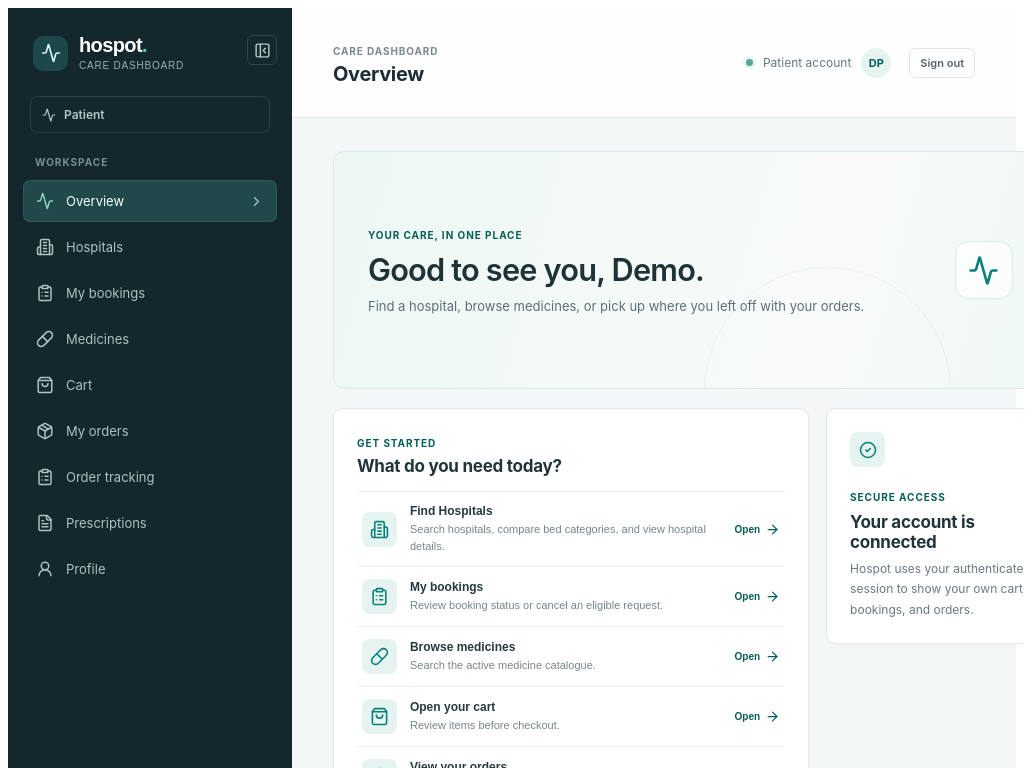
it: dashboard layout rendering › renders the patient workspace and navigates between its sections
Later steps or results of the test are not shown.
Expected: the element with class "dashboard-role-label" reads "Patient", 64,107 -> 105,122
Step 1. Click the button with class "dashboard-nav-item" showing "Hospitals" → (150,247), box 23,226 -> 277,268
Step 2. Click the button with class "dashboard-quick-link" that starts with "Find Hospitals" → (571,528), box 357,491 -> 785,566
Step 3. Click the 2nd button with class "dashboard-quick-link" → (571,596), box 357,566 -> 785,626
Step 4. Click the button with class "dashboard-quick-link" that starts with "Browse medicines" → (571,656), box 357,626 -> 785,686
Step 5. Click the button with class "dashboard-quick-link" that starts with "Open your cart" → (379,716), box 357,686 -> 785,746
(page scrolled)
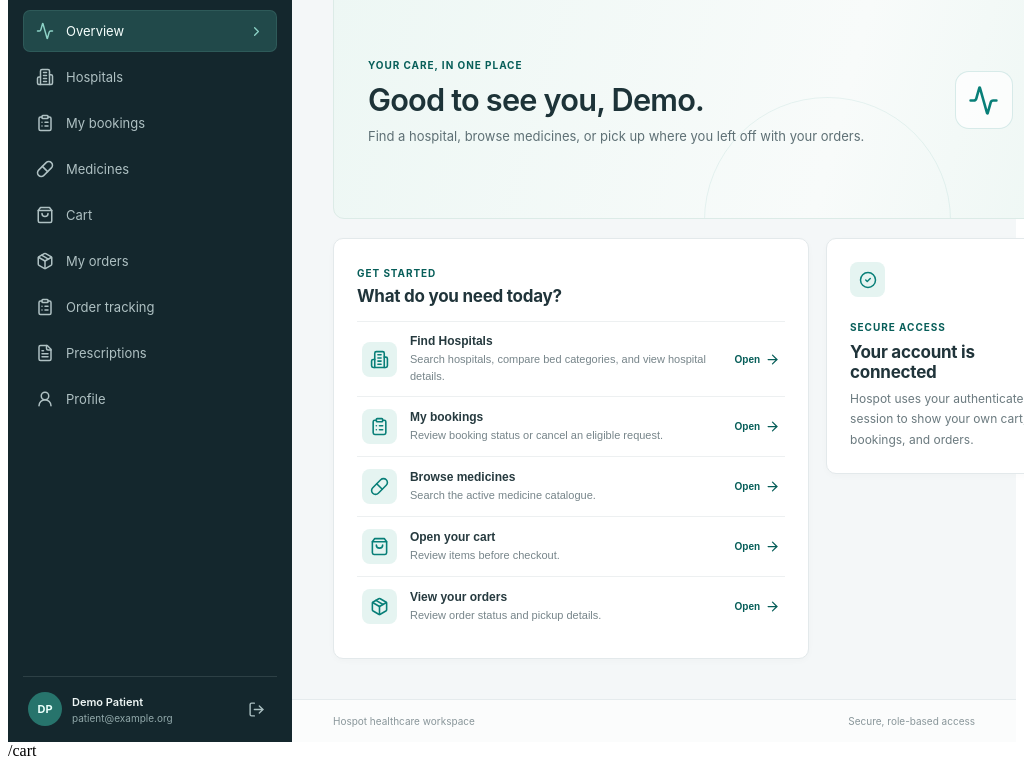
Result: the text with test id "current-path" reads "/cart" at 8,742 -> 36,759
Step 6. Click the button with class "dashboard-quick-link" that starts with "View your orders" → (571,606), box 357,576 -> 785,636
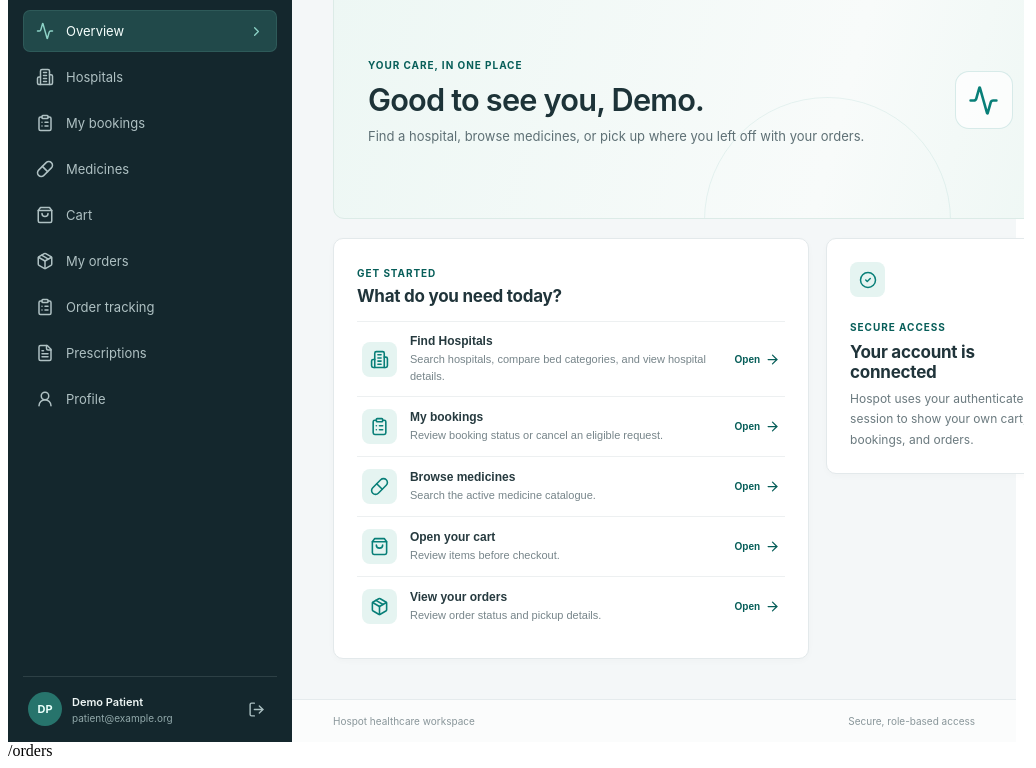
Result: the text with test id "current-path" reads "/orders" at 8,742 -> 52,759
